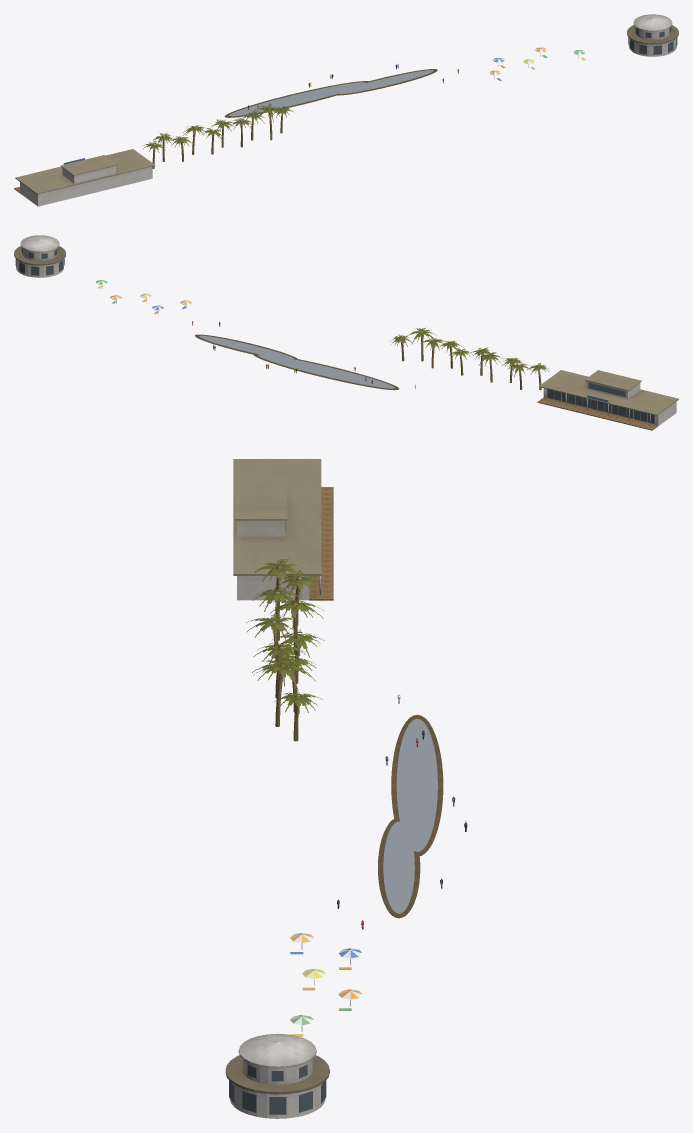
File: sunsetBeach.gltf
3 renders of one model, top to bottom at view 1: azimuth 30°, elevation 25°; view 2: azimuth 150°, elevation 25°; view 3: azimuth 270°, elevation 25°, orthographic. The views are drawn at different scales.
Parts seen in each view (by area): view 1: sunsetBeach-whitewash, sunsetBeach-flat-roof, sunsetBeach-tide-pool, sunsetBeach-palm-frond, sunsetBeach-wet-sand, sunsetBeach-palm-bark, sunsetBeach-curtain-glass; view 2: sunsetBeach-flat-roof, sunsetBeach-whitewash, sunsetBeach-tide-pool, sunsetBeach-curtain-glass, sunsetBeach-palm-frond, sunsetBeach-deck-wood, sunsetBeach-wet-sand, sunsetBeach-palm-bark; view 3: sunsetBeach-flat-roof, sunsetBeach-whitewash, sunsetBeach-tide-pool, sunsetBeach-palm-frond, sunsetBeach-wet-sand, sunsetBeach-deck-wood, sunsetBeach-curtain-glass, sunsetBeach-palm-bark.
Part boxes in pixels (x1,y1,x2,y2): sunsetBeach-whitewash: [20, 14, 676, 206]; sunsetBeach-flat-roof: [15, 25, 678, 194]; sunsetBeach-tide-pool: [229, 70, 432, 116]; sunsetBeach-palm-frond: [142, 103, 293, 152]; sunsetBeach-wet-sand: [224, 69, 437, 117]; sunsetBeach-palm-bark: [152, 108, 283, 168]; sunsetBeach-curtain-glass: [628, 26, 677, 54]; sunsetBeach-flat-roof: [14, 246, 678, 415]; sunsetBeach-whitewash: [16, 235, 676, 426]; sunsetBeach-tide-pool: [199, 335, 394, 388]; sunsetBeach-curtain-glass: [15, 247, 654, 423]; sunsetBeach-palm-frond: [389, 327, 548, 377]; sunsetBeach-deck-wood: [537, 397, 658, 430]; sunsetBeach-wet-sand: [195, 334, 399, 390]; sunsetBeach-palm-bark: [399, 331, 541, 390]; sunsetBeach-flat-roof: [225, 459, 329, 1094]; sunsetBeach-whitewash: [229, 520, 325, 1118]; sunsetBeach-tide-pool: [383, 718, 437, 913]; sunsetBeach-palm-frond: [246, 558, 326, 713]; sunsetBeach-wet-sand: [378, 714, 443, 918]; sunsetBeach-deck-wood: [309, 487, 333, 600]; sunsetBeach-curtain-glass: [229, 521, 326, 1114]; sunsetBeach-palm-bark: [271, 565, 302, 741].
Bounding box in the file's own units: 247 × 11.36 × 39.87.
Materials: 33 (6 with a texture image).
